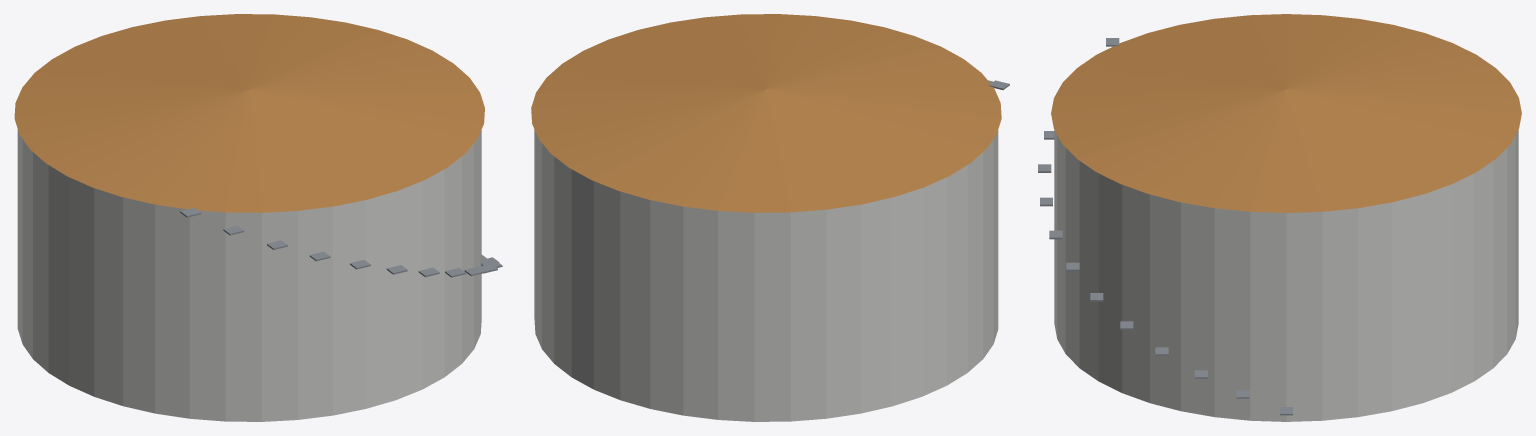
The model's file is oil_tank.glb.
The picture shows the model from 3 angles, left to right: view 1: azimuth 30°, elevation 25°; view 2: azimuth 150°, elevation 25°; view 3: azimuth 270°, elevation 25°; orthographic projection.
Parts seen in each view (by area): view 1: tank; view 2: tank; view 3: tank.
Part boxes in pixels (<box>): tank: <box>14,14,502,421</box>; tank: <box>531,14,1009,421</box>; tank: <box>1038,14,1521,421</box>.
Size of the model in its own units: 29.3 by 15.6 by 29.18.
